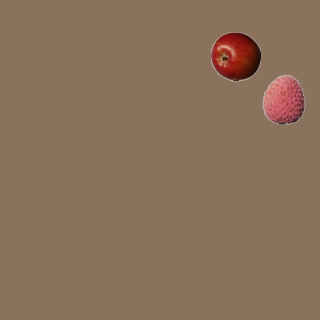Apple Braeburn: (210, 31, 260, 81)
Lychee: (258, 74, 308, 124)
